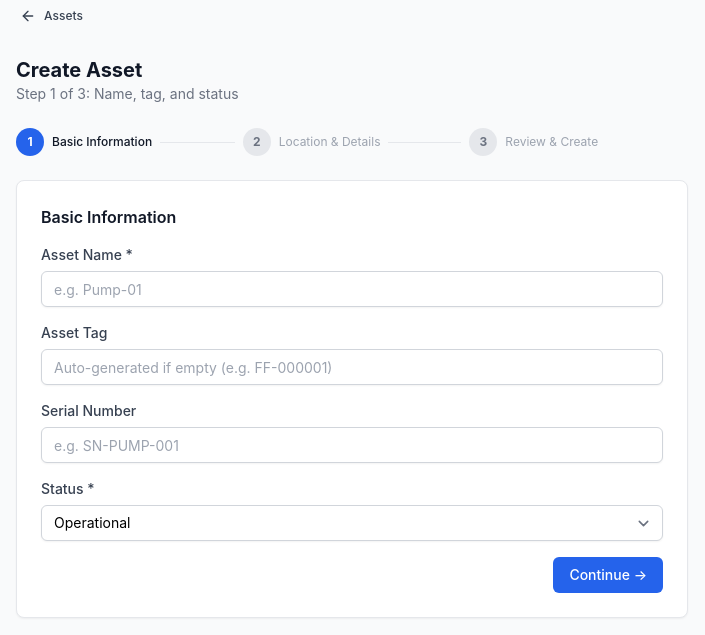
AssetCreatePage › shows step 3 review with entered name
This screenshot has width=705, height=635.
Type "My Pump" into the field labelled "Asset Name *" at (352, 289), box [41,271,663,307]
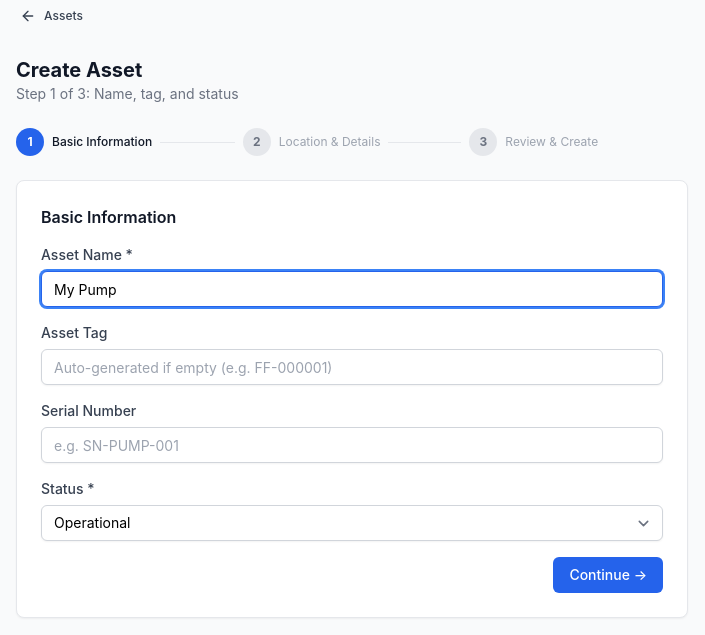
Click the button "Continue →" at (608, 575), box [553,557,663,593]
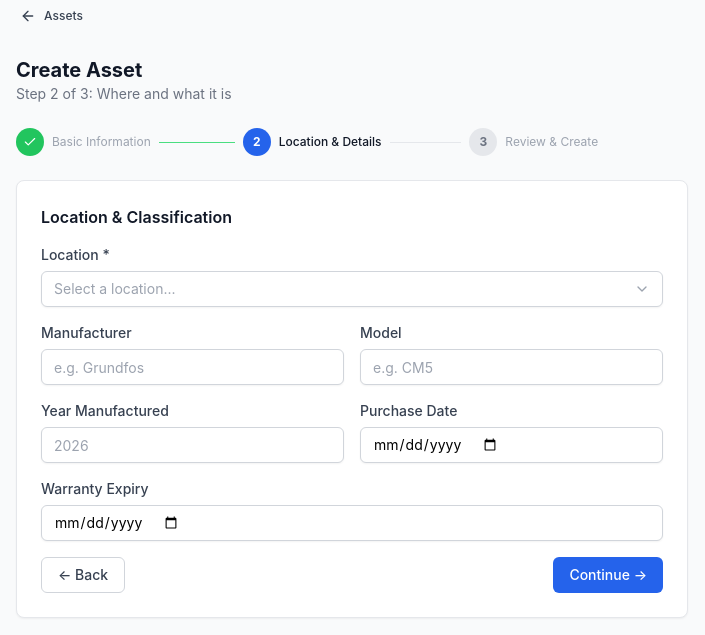
Click the button "Continue →" at (608, 575), box [553,557,663,593]
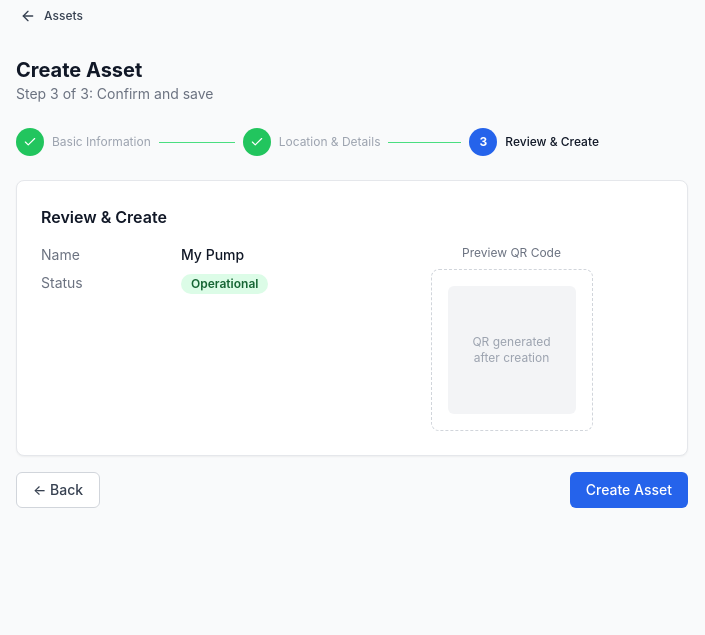
Result: the button "Create Asset" is shown at [570,472,688,508]
Result: the text "My Pump" is shown at [181,245,244,265]
